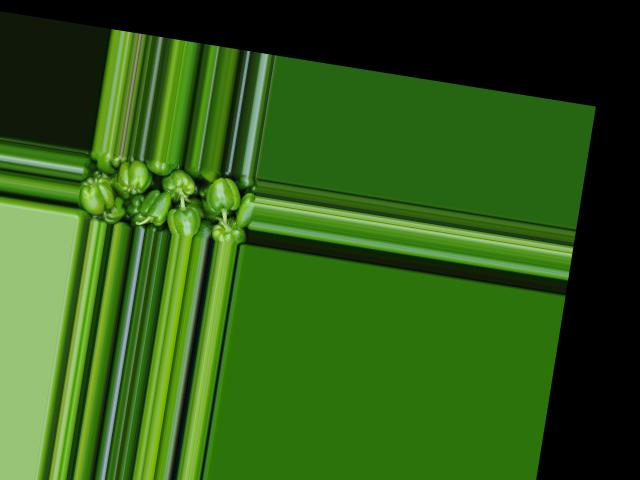bell_pepper: (75, 149, 257, 243)
